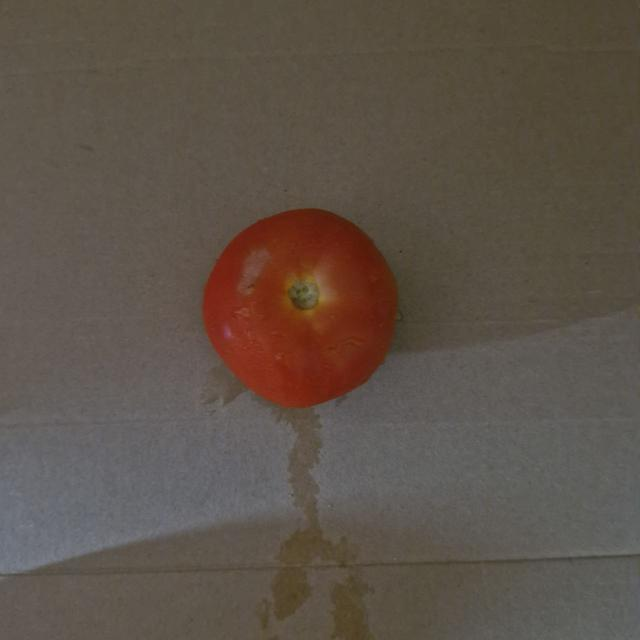food_waste: (202, 198, 404, 412)
